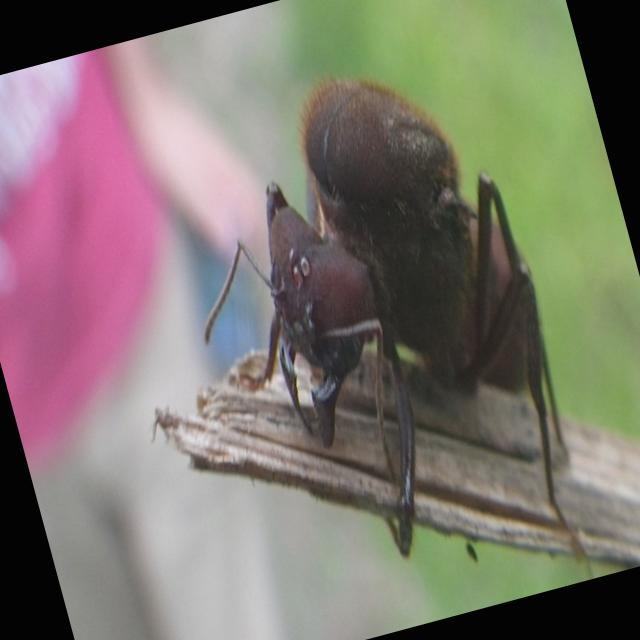Alive-Female-Dealate: (148, 43, 606, 635)
